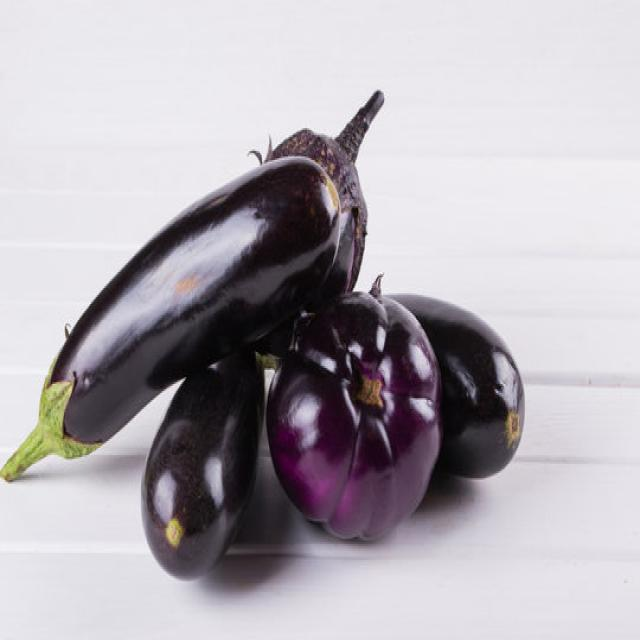Eggplant: (0, 149, 341, 481), (264, 274, 443, 542), (248, 87, 385, 304), (140, 346, 264, 580), (383, 288, 525, 478)
